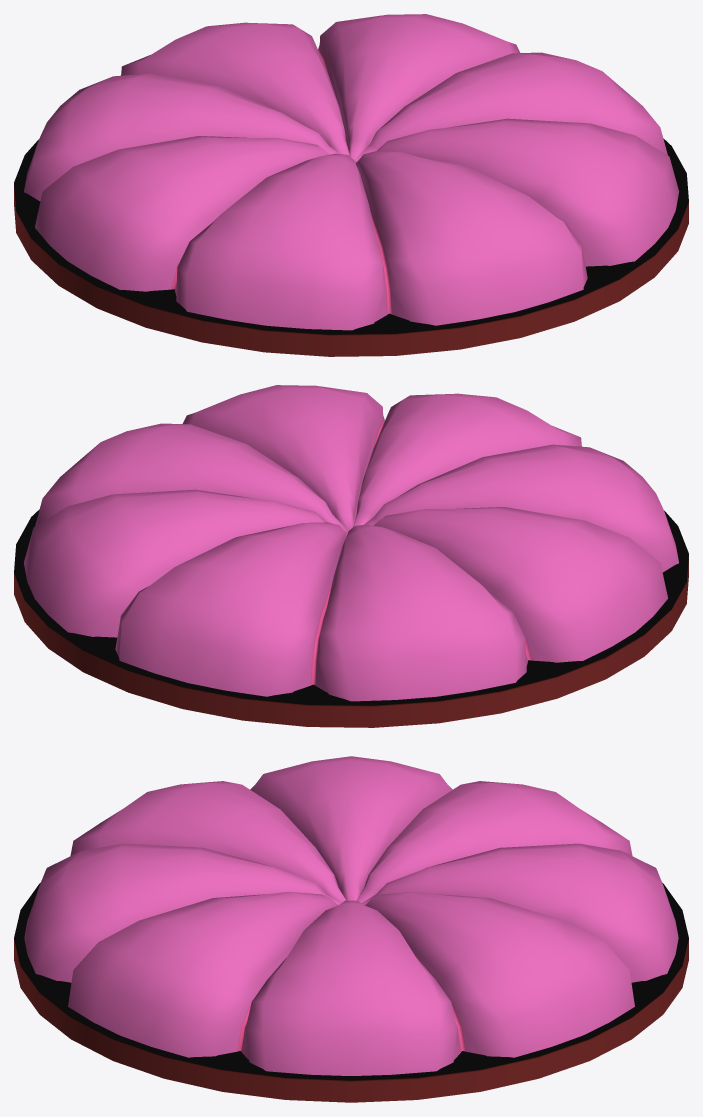
File: Wool.fbx
3 renders of one model, top to bottom at view 1: azimuth 30°, elevation 25°; view 2: azimuth 150°, elevation 25°; view 3: azimuth 270°, elevation 25°, orthographic.
Parts seen in each view (by area): view 1: CakeShape; view 2: CakeShape; view 3: CakeShape.
Boxes of the visible parts, x1,y1,x2,y2 form: CakeShape: [14, 14, 688, 356]; CakeShape: [14, 385, 688, 727]; CakeShape: [14, 756, 688, 1102].
Size of the model in its own units: 729 by 122 by 729.
